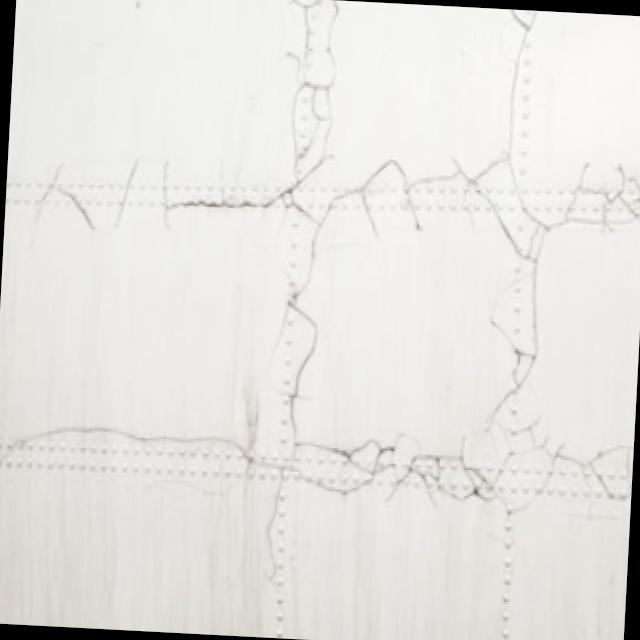crack: (19, 129, 640, 272), (0, 398, 634, 526), (246, 0, 347, 595), (480, 11, 576, 522)
